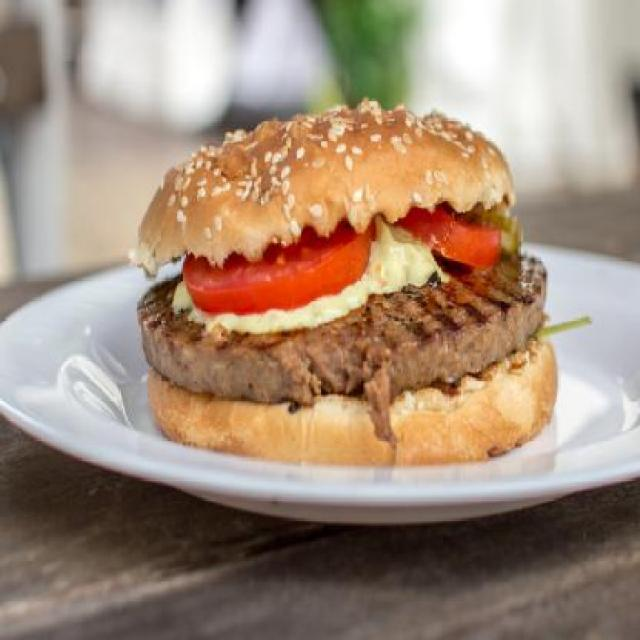Sandwich: (130, 98, 572, 470)
